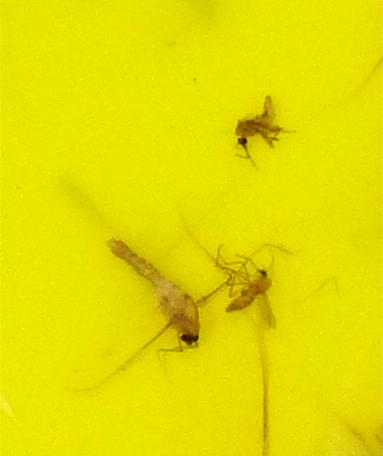Ephemeroptera: (100, 230, 210, 356)
Nematocera: (233, 100, 283, 152), (224, 266, 272, 314)
